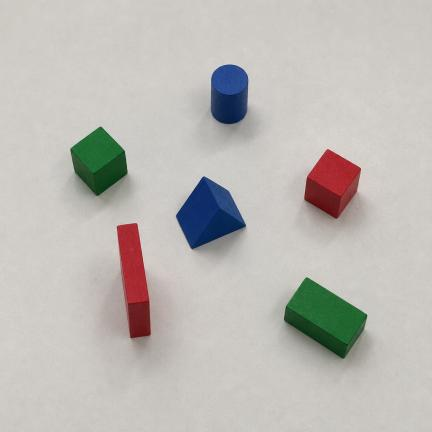BuildingBlocks: (285, 279, 367, 357), (177, 177, 245, 248), (71, 127, 127, 195), (305, 150, 360, 218), (117, 224, 150, 337), (211, 65, 248, 123)
